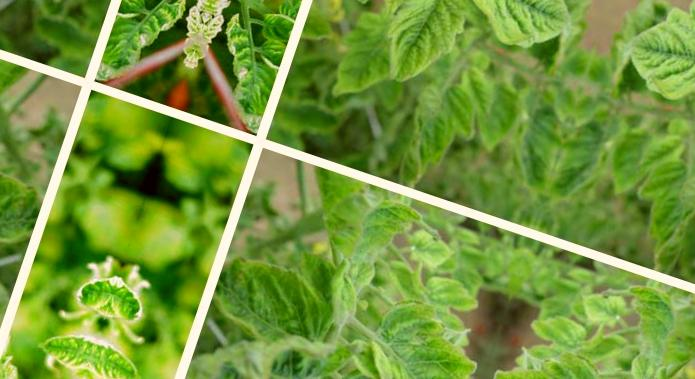Tomato mold leaf: (338, 272, 506, 379), (202, 247, 348, 369), (368, 0, 488, 114), (439, 0, 595, 76)
